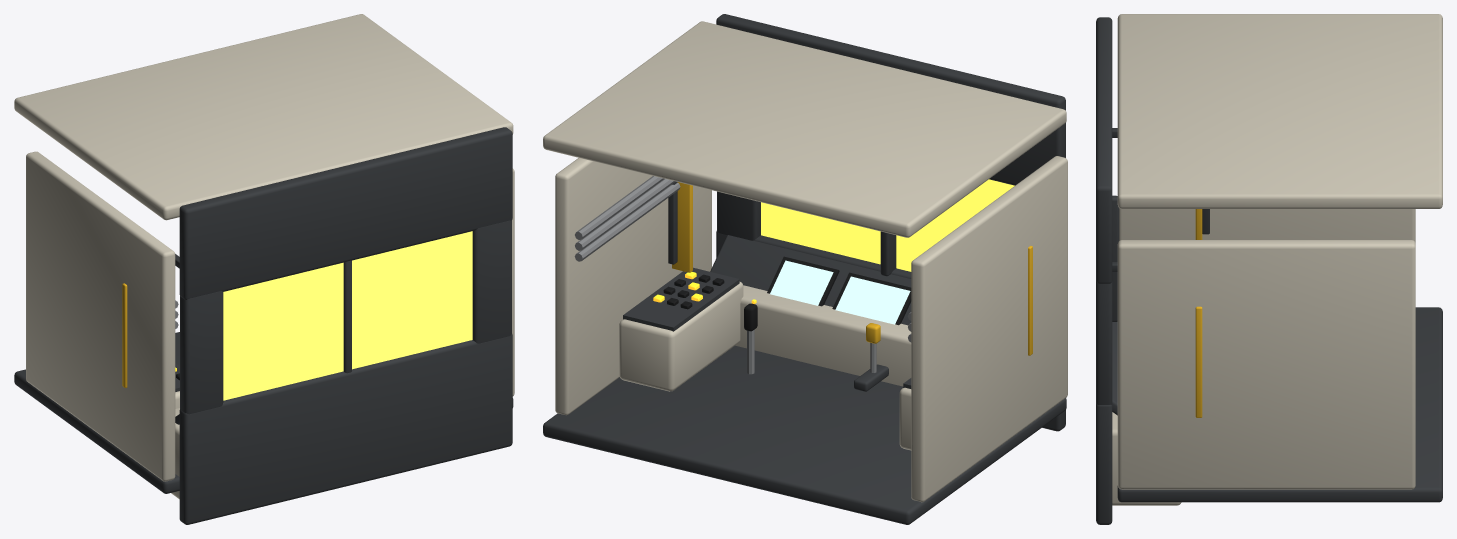
Rendered from cockpit_B.glb.
3 views of the same model, side by side, from view 1: azimuth 30°, elevation 25°; view 2: azimuth 150°, elevation 25°; view 3: azimuth 270°, elevation 25° (orthographic). The views are drawn at different scales.
Visible parts, largest first — view 1: cockpit_mesh; view 2: cockpit_mesh, SCREEN_C, SCREEN_L; view 3: cockpit_mesh.
Part boxes in pixels (x1,y1,x2,y2): cockpit_mesh: (14,14,514,524); cockpit_mesh: (543,14,1067,524); SCREEN_C: (835,276,910,324); SCREEN_L: (770,260,833,305); cockpit_mesh: (1096,14,1442,524).
Size of the model in its own units: 3.26 by 2.76 by 2.56.
